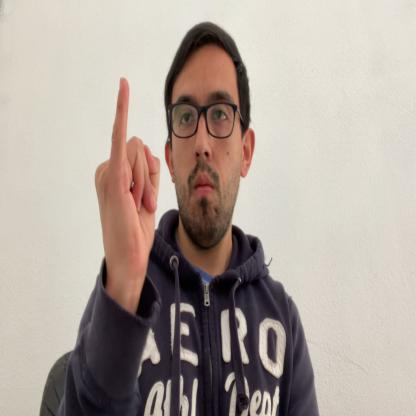I: (94, 75, 161, 288)
